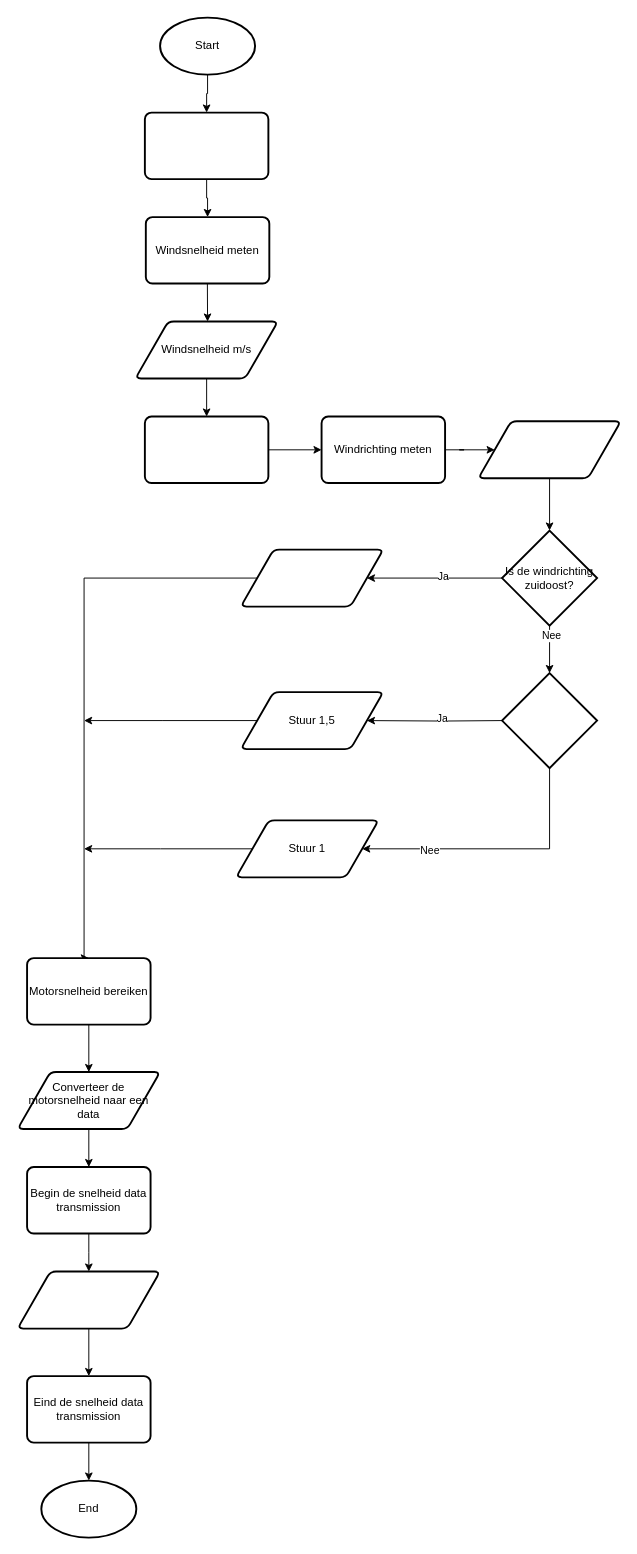
Image size: 637x1554. Some labels were removed from this diagram. Here are the shapes that lost their labels. From the top down, the centre of each, then its label:
At [206,145]: "Libraries installeren".
At [206,449]: "UART communicatie voor windrichtingsensor".
At [549,449]: "Windrichting".
At [311,577]: "Stuur 0.5".
At [549,720]: "Is de windrichting noordoost?".
At [88,1299]: "Write data naar de motor".
